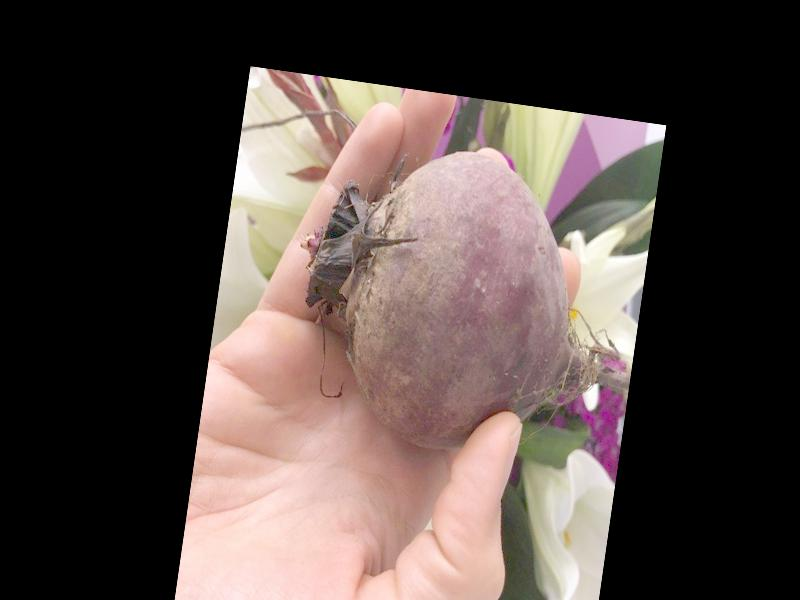Beet: (277, 128, 657, 473)
